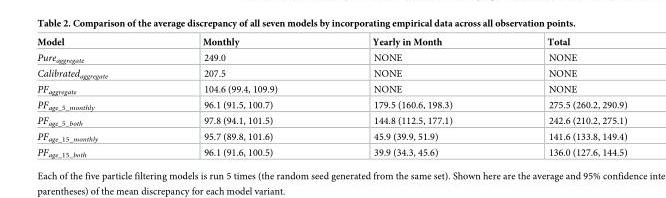table: (36, 36, 626, 158)
table column: (324, 36, 499, 158), (154, 36, 324, 158), (499, 36, 626, 158), (36, 36, 154, 158)
table column header: (36, 36, 626, 48)
table row: (36, 48, 626, 65), (36, 65, 626, 81), (36, 96, 626, 112), (36, 112, 626, 128), (36, 128, 626, 144), (36, 81, 626, 96), (36, 144, 626, 158), (36, 36, 626, 48)
